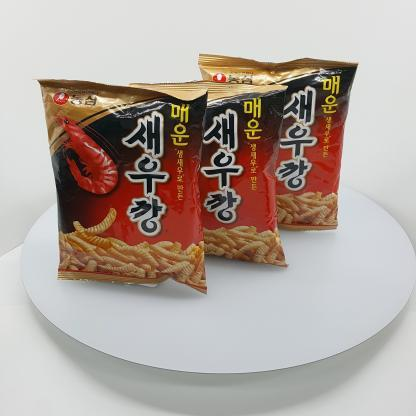Plastic Packaging: (27, 63, 209, 293), (208, 82, 284, 264), (286, 56, 358, 228)
